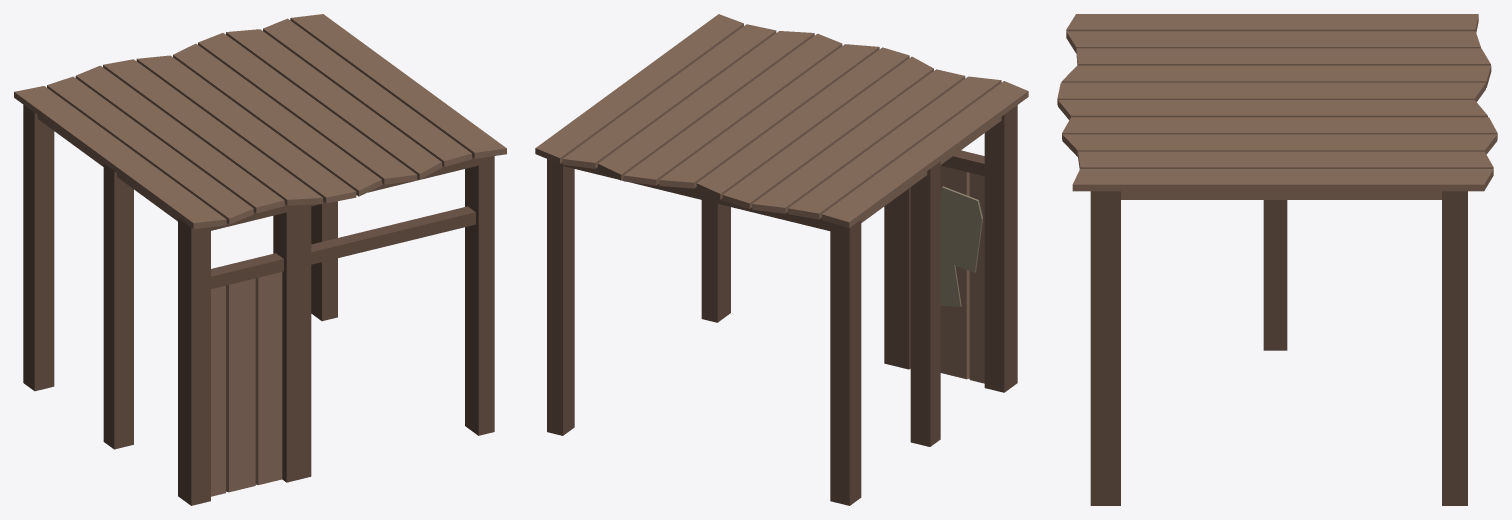
Rendered from PortBuilding.fbx.
The picture shows the model from 3 angles, left to right: view 1: azimuth 30°, elevation 25°; view 2: azimuth 150°, elevation 25°; view 3: azimuth 270°, elevation 25°; orthographic projection. The views are drawn at different scales.
Visible parts, largest first — view 1: PortBuilding; view 2: PortBuilding; view 3: PortBuilding.
Part boxes in pixels (x1,y1,x2,y2): PortBuilding: (14,14,506,505); PortBuilding: (535,14,1028,505); PortBuilding: (1057,14,1497,505).
Size of the model in its own units: 2.14 by 2.33 by 1.89.
